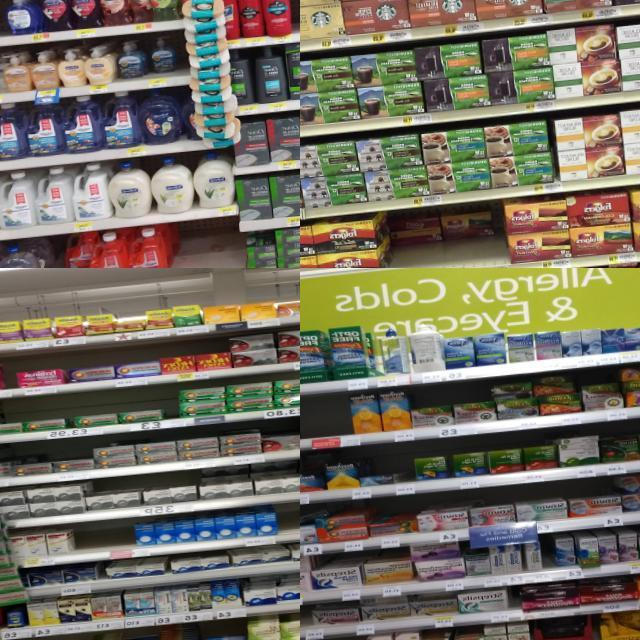Imprecise: (390, 208, 506, 268)
